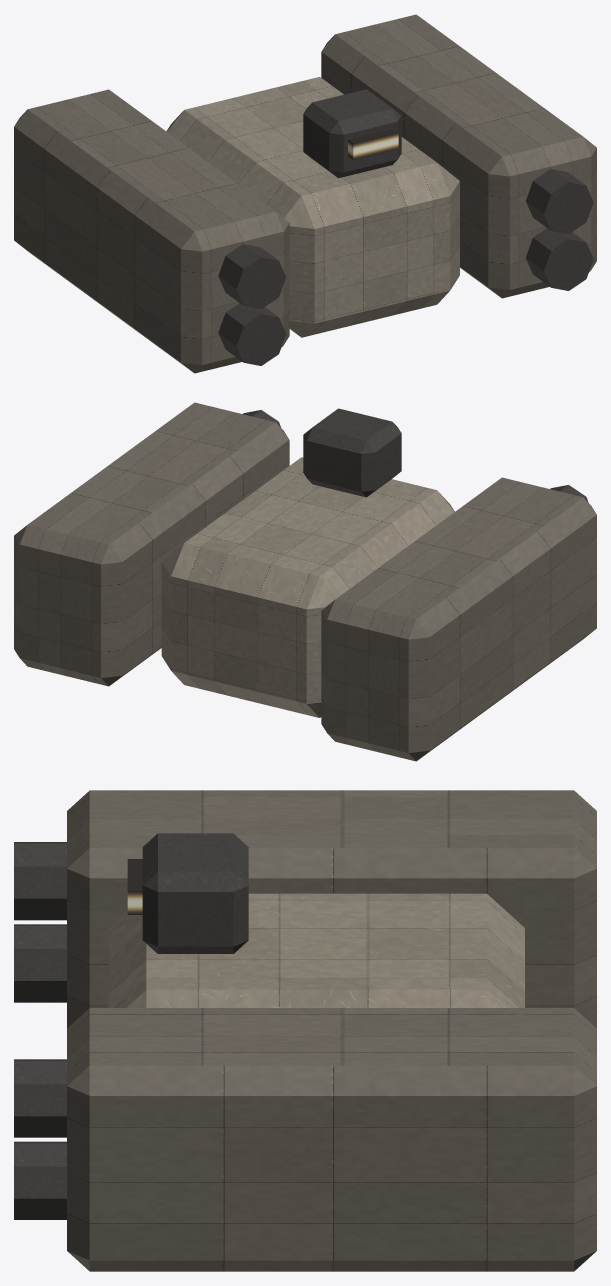
File: dep_avturret_head.obj
The picture shows the model from 3 angles, top to bottom: view 1: azimuth 30°, elevation 25°; view 2: azimuth 150°, elevation 25°; view 3: azimuth 270°, elevation 25°; orthographic projection. The views are drawn at different scales.
Visible parts, largest first — view 1: dep_avturret_head; view 2: dep_avturret_head; view 3: dep_avturret_head.
Part boxes in pixels (x1,y1,x2,y2): dep_avturret_head: [14, 14, 596, 373]; dep_avturret_head: [14, 402, 596, 761]; dep_avturret_head: [14, 790, 596, 1271].
Bounding box in the file's own units: 0.92 × 0.43 × 0.77.
Materials: 1 (1 with a texture image).
